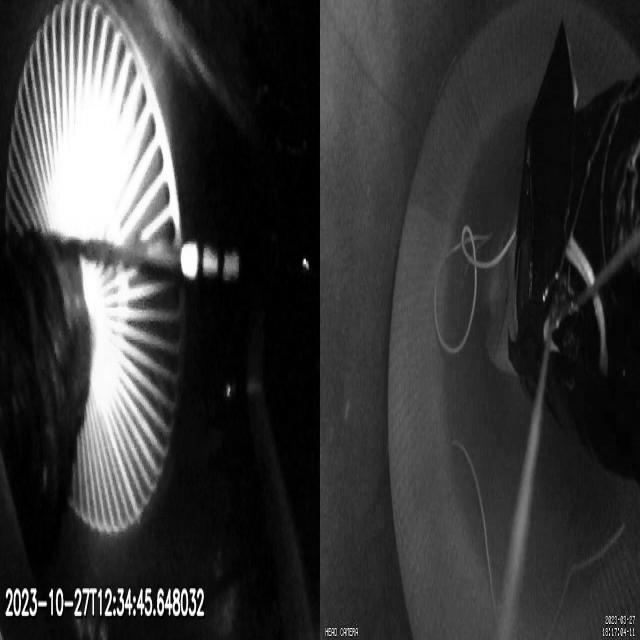white-dots: (180, 240, 239, 281)
